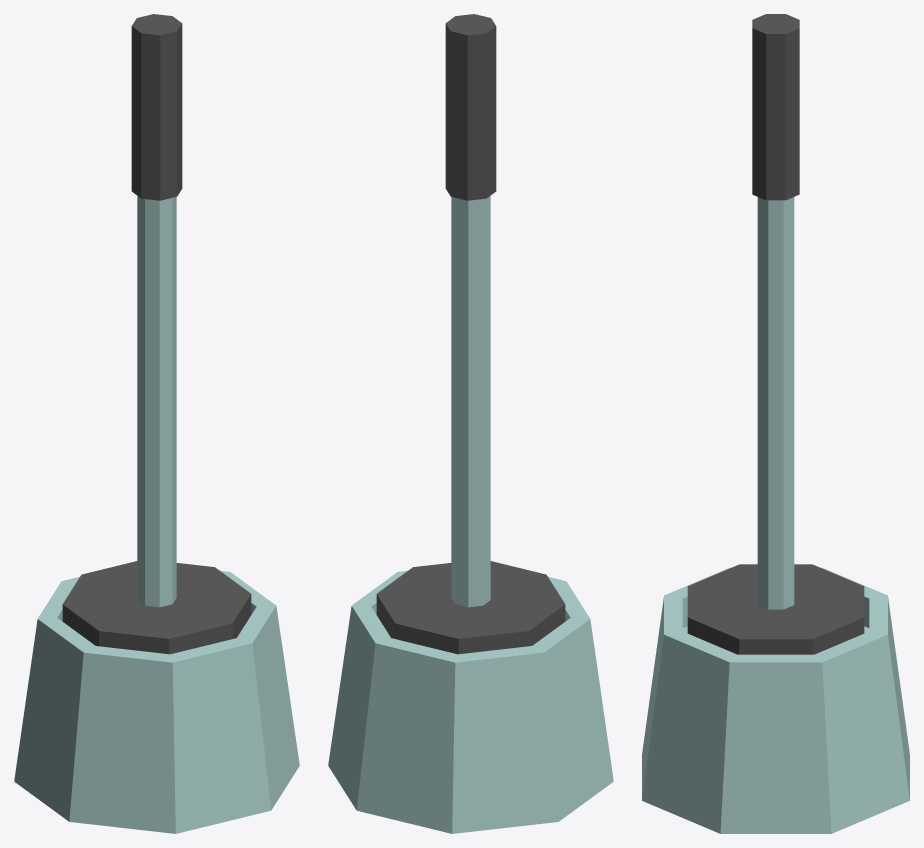
The model's file is BathroomProps_11.fbx.
The picture shows the model from 3 angles, left to right: view 1: azimuth 30°, elevation 25°; view 2: azimuth 150°, elevation 25°; view 3: azimuth 270°, elevation 25°; orthographic projection.
Visible parts, largest first — view 1: BathroomProps_11; view 2: BathroomProps_11; view 3: BathroomProps_11.
Part boxes in pixels (x1,y1,x2,y2): BathroomProps_11: (14,14,299,833); BathroomProps_11: (328,14,613,833); BathroomProps_11: (642,14,909,833).
Size of the model in its own units: 15.08 by 46.81 by 15.08.
